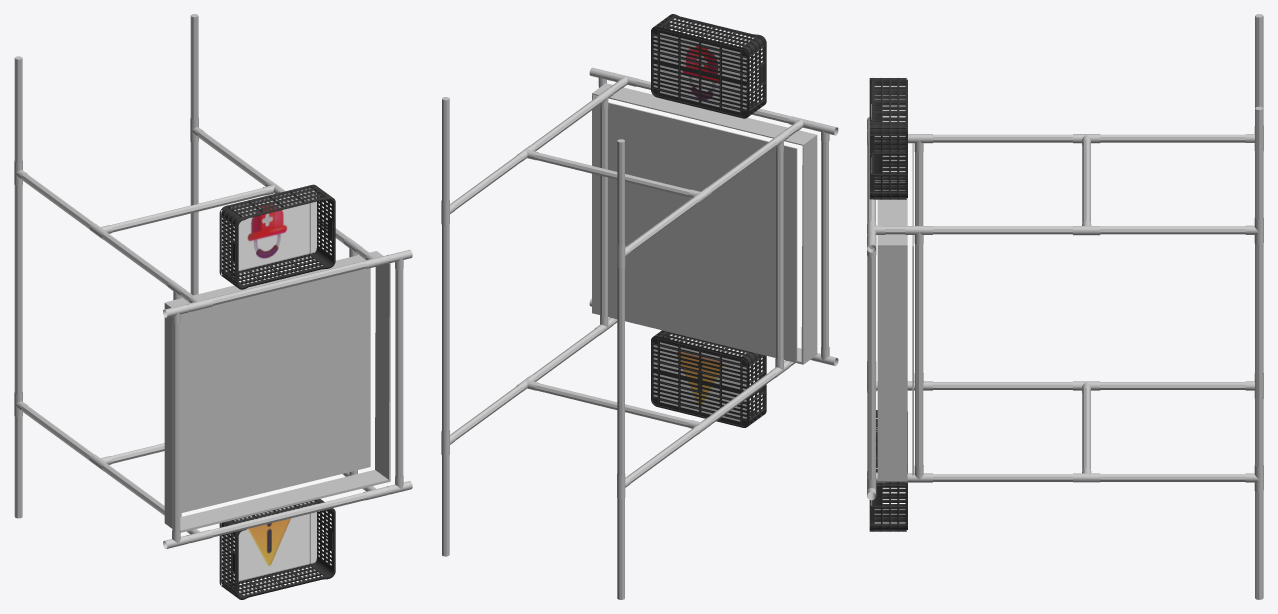
Rendered from table.obj.
3 renders of one model, left to right at view 1: azimuth 30°, elevation 25°; view 2: azimuth 150°, elevation 25°; view 3: azimuth 270°, elevation 25°, orthographic. The views are drawn at different scales.
Parts seen in each view (by area): view 1: model, bin.001, Plane.002, bin, Plane.001; view 2: model, bin.001, bin, Plane.002, Plane.001; view 3: model, bin.001, bin.
Part boxes in pixels (box(x1,y1,x2,y2)): model: box(14, 14, 412, 548); bin.001: box(219, 184, 335, 289); Plane.002: box(221, 188, 316, 275); bin: box(219, 499, 335, 599); Plane.001: box(221, 501, 316, 585); model: box(441, 67, 838, 599); bin.001: box(651, 14, 766, 118); bin: box(651, 330, 766, 427); Plane.002: box(653, 33, 746, 112); Plane.001: box(653, 342, 746, 421); model: box(867, 14, 1263, 599); bin.001: box(869, 78, 907, 199); bin: box(869, 410, 907, 531).
Size of the model in its own units: 0.6621 by 1.18 by 0.8667.
4 materials, 2 textured.
